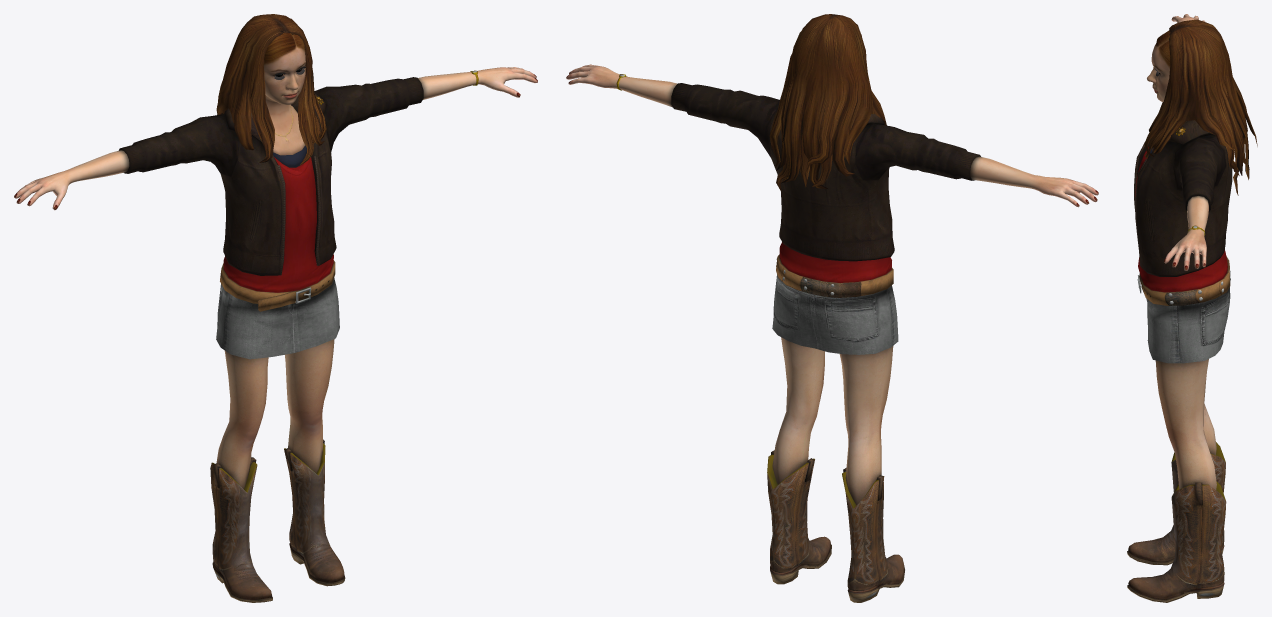
Rendered from Amy_Pond_A.obj.
3 renders of one model, left to right at view 1: azimuth 30°, elevation 25°; view 2: azimuth 150°, elevation 25°; view 3: azimuth 270°, elevation 25°, orthographic. The views are drawn at different scales.
Visible parts, largest first — view 1: AmyOutfit, AmyJacket, AmySkin, AmyHair, AmyHead, AmyZipper; view 2: AmyOutfit, AmyJacket, AmySkin, AmyHair; view 3: AmyOutfit, AmyJacket, AmyHair, AmySkin, AmyHead, AmyZipper.
Part boxes in pixels (x1,y1,x2,y2): AmyOutfit: (210,145,345,602); AmyJacket: (119,77,423,275); AmySkin: (14,67,537,489); AmyHair: (216,14,326,165); AmyHead: (263,32,305,155); AmyZipper: (277,156,320,275); AmyOutfit: (767,242,904,602); AmyJacket: (671,83,980,261); AmySkin: (566,64,1098,505); AmyHair: (769,14,886,191); AmyOutfit: (1127,146,1230,602); AmyJacket: (1136,120,1232,276); AmyHair: (1144,19,1257,195); AmySkin: (1155,14,1216,489); AmyHead: (1147,30,1170,101); AmyZipper: (1134,142,1146,261).
Bounding box in the file's own units: 3.63 × 3.72 × 0.7977.
13 materials, 13 textured.
